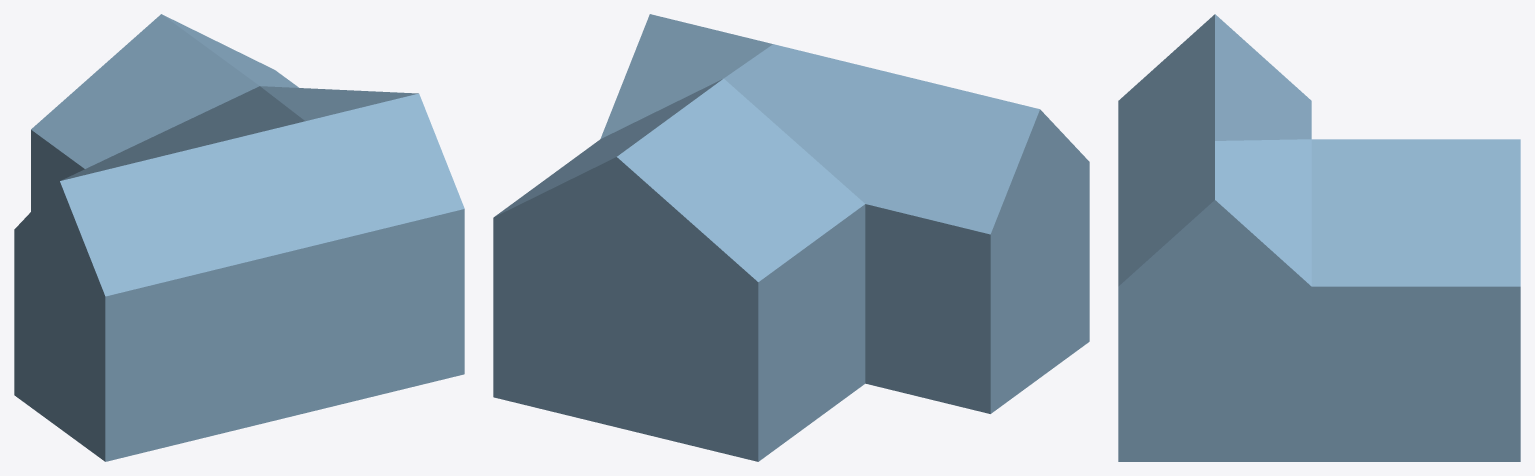
File: House02.fbx
3 views of the same model, side by side, from view 1: azimuth 30°, elevation 25°; view 2: azimuth 150°, elevation 25°; view 3: azimuth 270°, elevation 25° (orthographic). The views are drawn at different scales.
Visible parts, largest first — view 1: Cube; view 2: Cube; view 3: Cube.
Boxes of the visible parts, <box> form: Cube: <box>14,14,464,461</box>; Cube: <box>493,14,1089,461</box>; Cube: <box>1118,14,1520,461</box>.
Bounding box in the file's own units: 4.55 × 3.01 × 4.16.
